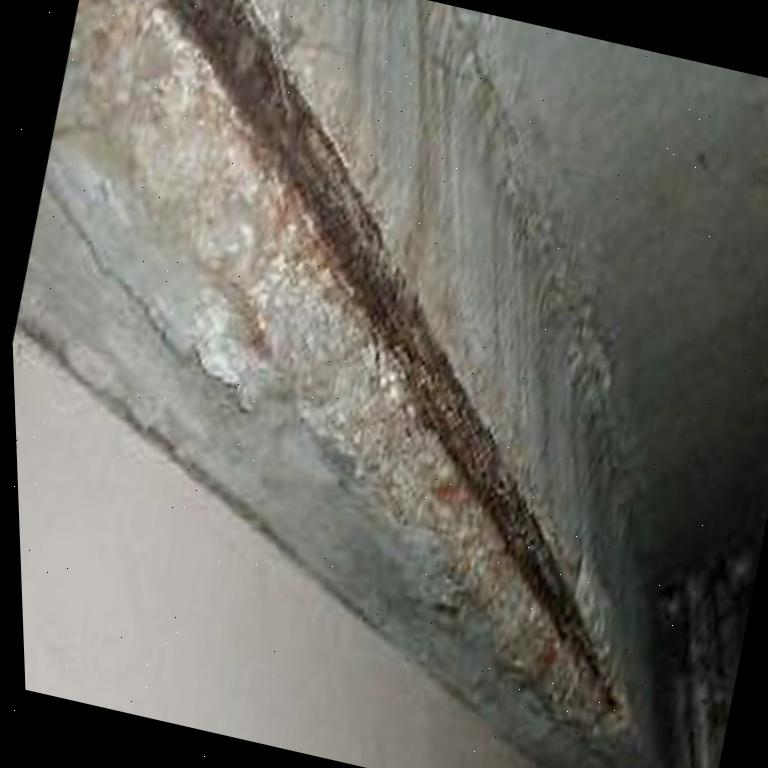exposed_rebar: (169, 0, 602, 680)
spalling: (43, 0, 643, 745)
